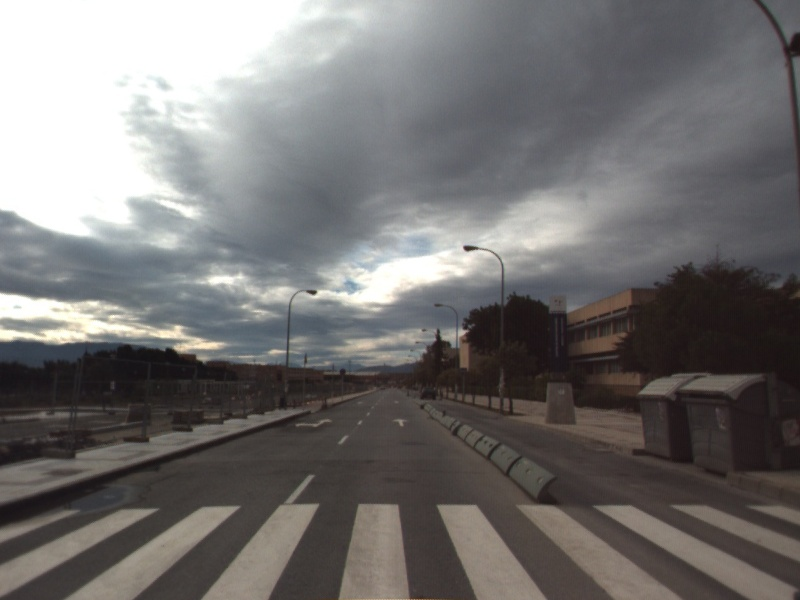STRAIGHT: (390, 416, 410, 428)
STRAIGHT_LEFT: (292, 416, 335, 430)
